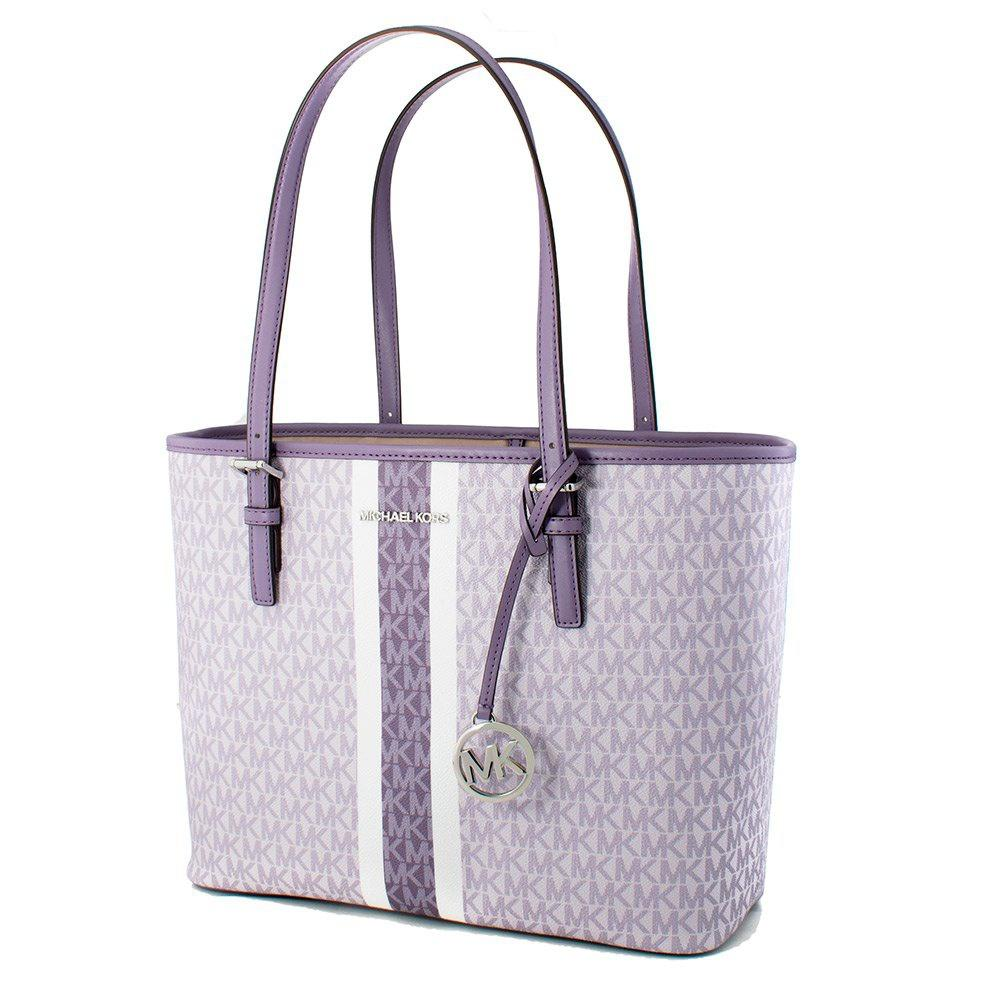MICHAEL-KORS: (359, 510, 449, 524)
